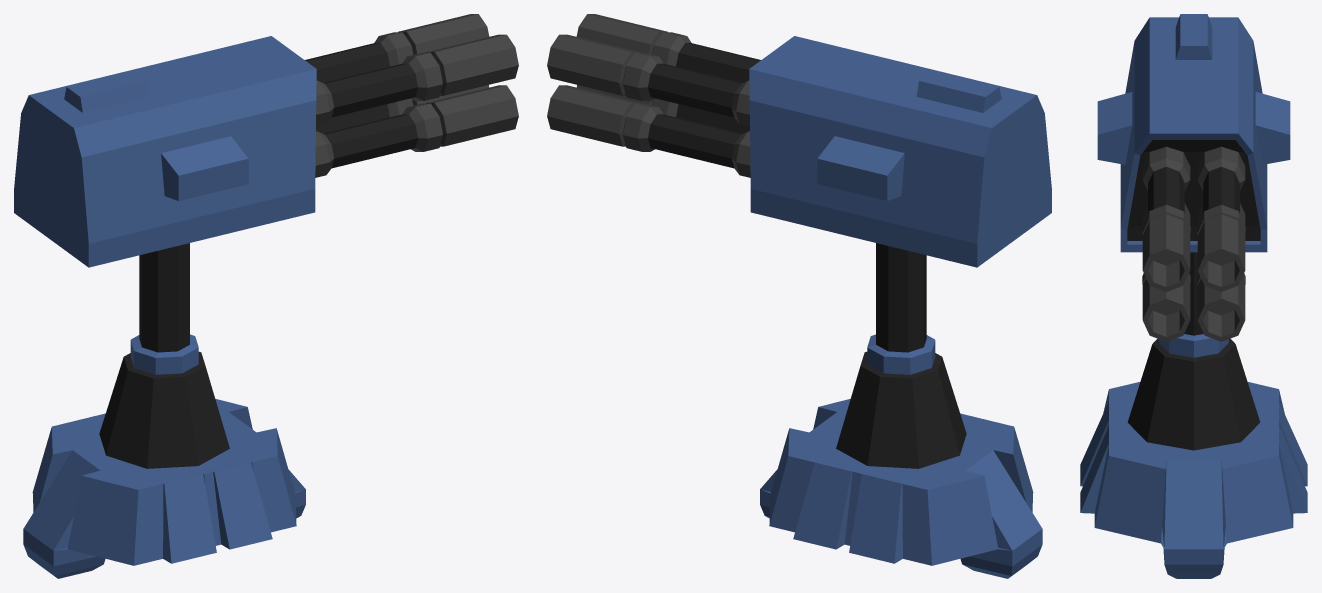
The model's file is Turret.fbx.
3 renders of one model, left to right at view 1: azimuth 30°, elevation 25°; view 2: azimuth 150°, elevation 25°; view 3: azimuth 270°, elevation 25°, orthographic.
Parts seen in each view (by area): view 1: UpperPart, LowerPart, Barrels; view 2: UpperPart, LowerPart, Barrels; view 3: LowerPart, UpperPart, Barrels.
Boxes of the visible parts, x1=… form: UpperPart: x1=14, y1=36, x2=316, y2=267; LowerPart: x1=23, y1=243, x2=305, y2=578; Barrels: x1=305, y1=14, x2=518, y2=177; UpperPart: x1=749, y1=36, x2=1051, y2=267; LowerPart: x1=760, y1=243, x2=1042, y2=578; Barrels: x1=547, y1=14, x2=760, y2=177; LowerPart: x1=1080, y1=252, x2=1307, y2=578; UpperPart: x1=1097, y1=14, x2=1290, y2=252; Barrels: x1=1142, y1=146, x2=1245, y2=341.
Size of the model in its own units: 2.81 by 2.82 by 1.24.
Materials: 1 (1 with a texture image).
